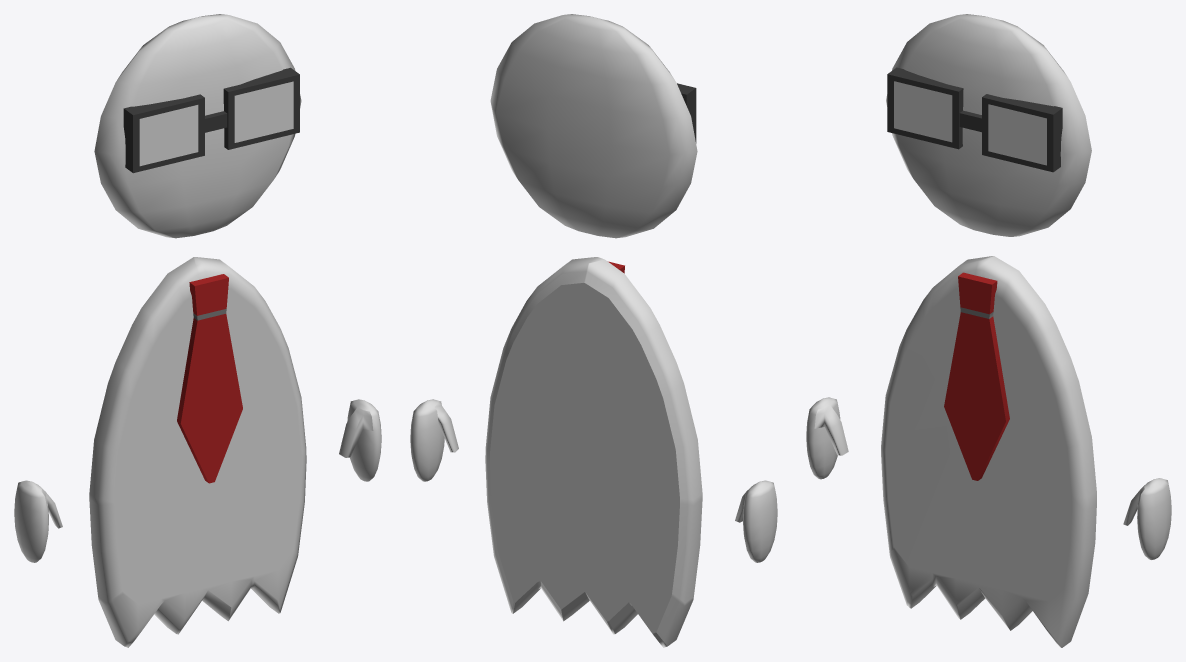
Rendered from dexter.fbx.
3 renders of one model, left to right at view 1: azimuth 30°, elevation 25°; view 2: azimuth 150°, elevation 25°; view 3: azimuth 330°, elevation 25°, orthographic.
Parts seen in each view (by area): view 1: pCube5; view 2: pCube5; view 3: pCube5.
Part boxes in pixels (<box>): pCube5: <box>14,14,381,647</box>; pCube5: <box>410,14,777,647</box>; pCube5: <box>806,14,1171,647</box>.
Size of the model in its own units: 14.98 by 24.61 by 2.45.
